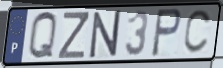3: (125, 9, 148, 58)
C: (182, 8, 214, 56)
N: (88, 9, 122, 60)
P: (150, 7, 183, 59)
Q: (27, 10, 59, 62)
Z: (56, 11, 90, 61)
